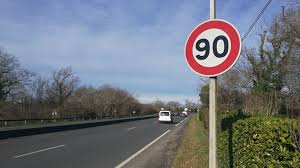Speed_limit_90km: (184, 19, 243, 76)
car: (157, 110, 175, 124)
